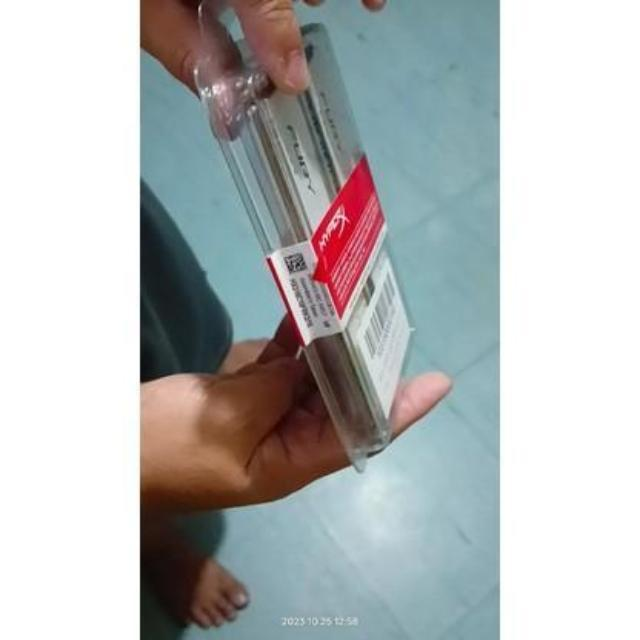RAM: (247, 31, 418, 446)
